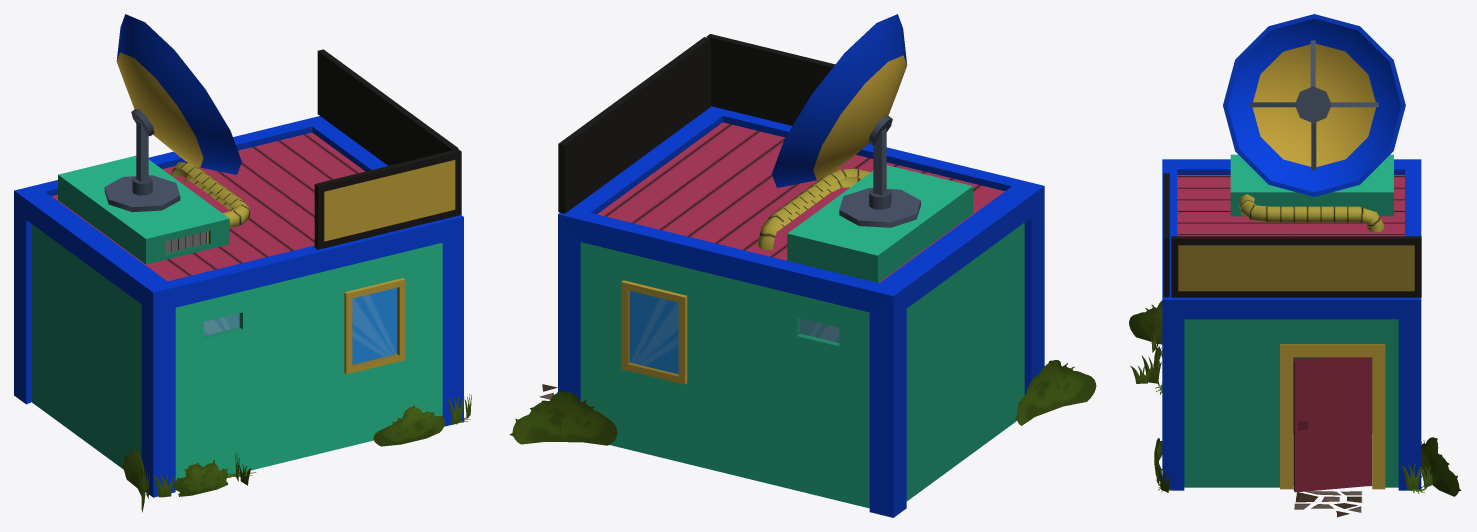
The model's file is Target_RadioStation.fbx.
The picture shows the model from 3 angles, left to right: view 1: azimuth 30°, elevation 25°; view 2: azimuth 150°, elevation 25°; view 3: azimuth 270°, elevation 25°; orthographic projection. The views are drawn at different scales.
Parts seen in each view (by area): view 1: Buildings; view 2: Buildings; view 3: Buildings.
Boxes of the visible parts, x1,y1,x2,y2 form: Buildings: [14, 14, 471, 512]; Buildings: [509, 14, 1096, 517]; Buildings: [1129, 14, 1461, 517].
Size of the model in its own units: 497 by 474 by 386.
